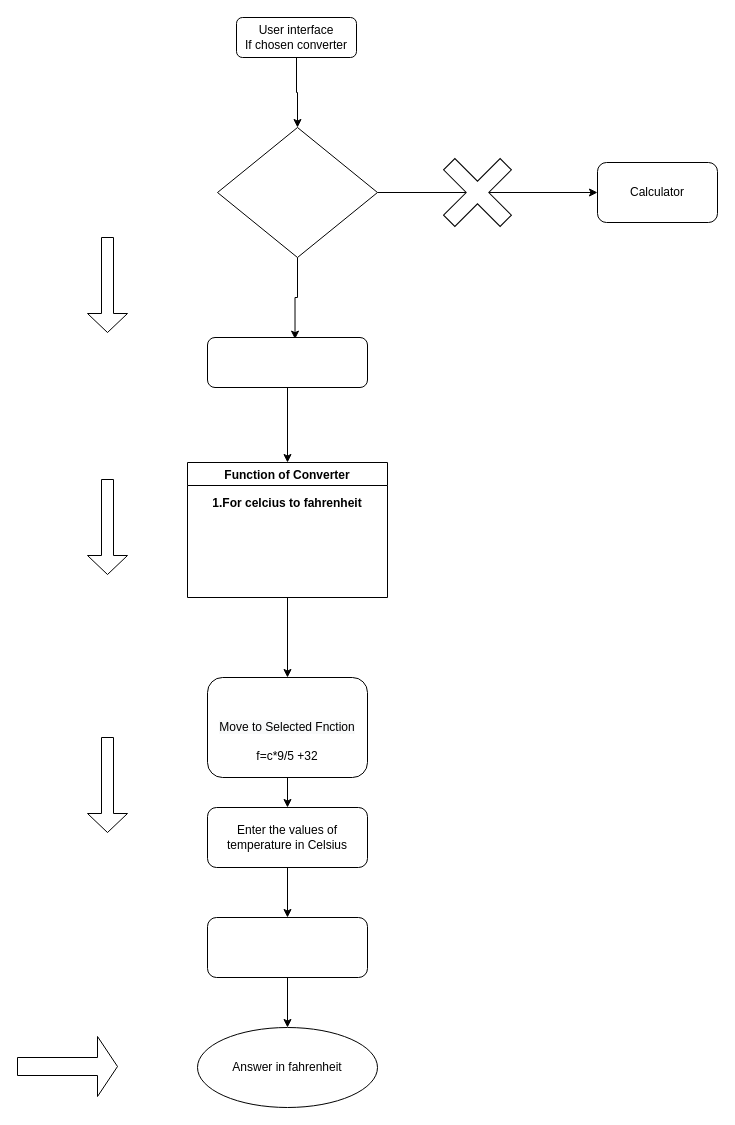
This 735x1125 diagram has some shape labels left out. The shapes that lost their labels are listed below. From the top down, each one's centre as x and y in pixels, then its label:
At (x=297, y=192): "Calculator /Converter".
At (x=287, y=362): "Converter".
At (x=287, y=947): "f = (Value)*9/5 +32".
